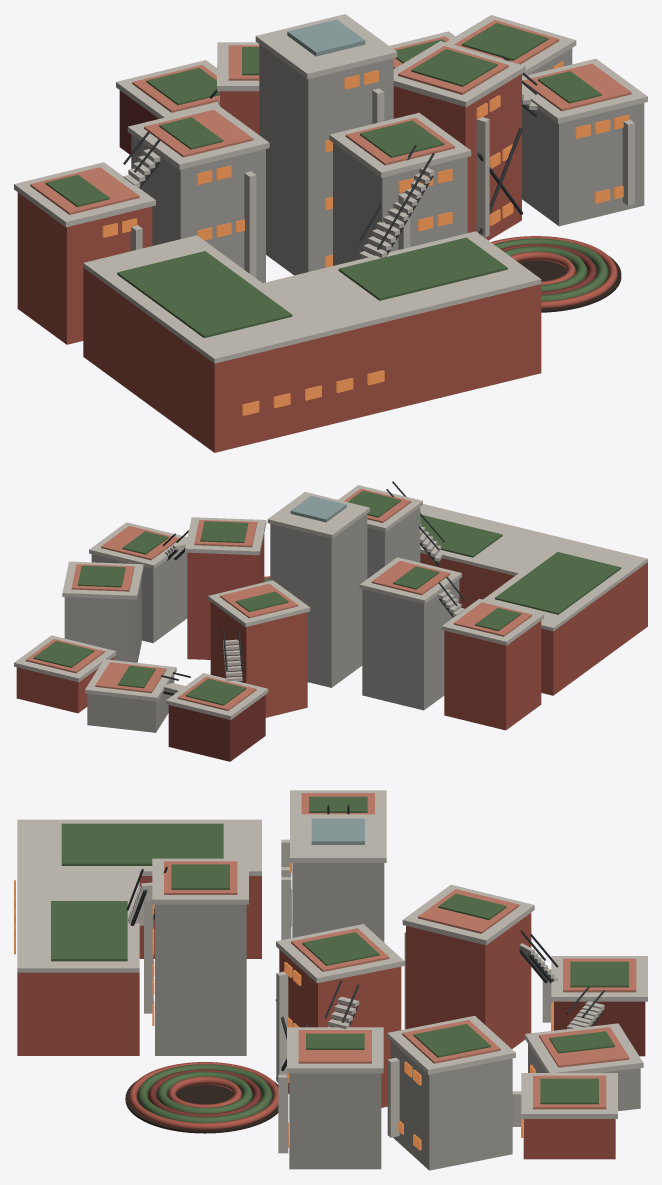
The model's file is yuanbai-brutalist-v1.glb.
3 renders of one model, top to bottom at view 1: azimuth 30°, elevation 25°; view 2: azimuth 150°, elevation 25°; view 3: azimuth 270°, elevation 25°, orthographic. The views are drawn at different scales.
Visible parts, largest first — view 1: YB_mass_west-courtyard_body, exposed_concrete_roof_cap (×10), YB_mass_central-tower_body, YB_mass_east-middle_body, terracotta_roof_deck (×8), green_roof_strip (×7), YB_mass_west-tower_body, YB_mass_west-core_body, YB_mass_south-core_body, green_roof_west_wing, YB_mass_court-tower_body, YB_circular_courtyard_3_brick_2_grass (+5 smaller); view 2: exposed_concrete_roof_cap (×12), YB_mass_central-tower_body, YB_mass_west-core_body, YB_mass_west-courtyard_body, YB_mass_west-tower_body, terracotta_roof_deck (×10), green_roof_strip (×10), YB_mass_north-tower_body, YB_mass_court-tower_body, green_roof_west_wing, YB_mass_north-core_body, YB_mass_east-tower_body (+6 smaller); view 3: exposed_concrete_roof_cap (×11), YB_mass_south-core_body, green_roof_strip (×9), YB_mass_west-courtyard_body, YB_mass_north-tower_body, terracotta_roof_deck (×9), YB_mass_east-tower_body, YB_mass_east-middle_body, YB_circular_courtyard_3_brick_2_grass, green_roof_west_wing, YB_mass_central-tower_body, YB_mass_court-tower_body (+6 smaller).
Boxes of the visible parts, x1,y1,x2,y2 form: YB_mass_west-courtyard_body: (83,268,541,452); exposed_concrete_roof_cap (×10): (14,14,647,363); YB_mass_central-tower_body: (259,44,393,275); YB_mass_east-middle_body: (522,99,644,226); terracotta_roof_deck (×8): (30,20,631,214); green_roof_strip (×7): (45,23,601,207); YB_mass_west-tower_body: (17,192,152,344); YB_mass_west-core_body: (131,135,265,282); YB_mass_south-core_body: (333,143,467,265); green_roof_west_wing: (117,251,292,338); YB_mass_court-tower_body: (393,74,521,240); YB_circular_courtyard_3_brick_2_grass: (491,236,621,312); exposed_concrete_roof_cap (×12): (14,485,647,719); YB_mass_central-tower_body: (270,513,367,687); YB_mass_west-core_body: (362,579,459,710); YB_mass_west-courtyard_body: (420,553,647,695); YB_mass_west-tower_body: (444,621,541,730); terracotta_roof_deck (×10): (25,488,532,710); green_roof_strip (×10): (33,490,521,705); YB_mass_north-tower_body: (210,602,307,717); YB_mass_court-tower_body: (187,534,264,659); green_roof_west_wing: (495,552,621,614); YB_mass_north-core_body: (168,695,265,761); YB_mass_east-tower_body: (64,579,141,662); exposed_concrete_roof_cap (×11): (17,790,647,1118); YB_mass_south-core_body: (155,904,246,1055); green_roof_strip (×9): (171,796,628,1104); YB_mass_west-courtyard_body: (17,876,261,1055); YB_mass_north-tower_body: (406,913,531,1048); terracotta_roof_deck (×9): (164,793,636,1109); YB_mass_east-tower_body: (390,1041,512,1170); YB_mass_east-middle_body: (289,1073,381,1169); YB_circular_courtyard_3_brick_2_grass: (125,1062,278,1133); green_roof_west_wing: (61,823,223,865); YB_mass_central-tower_body: (292,863,384,942); YB_mass_court-tower_body: (279,949,401,1107).
Bounding box in the file's own units: 10.28 × 3.73 × 10.36.
